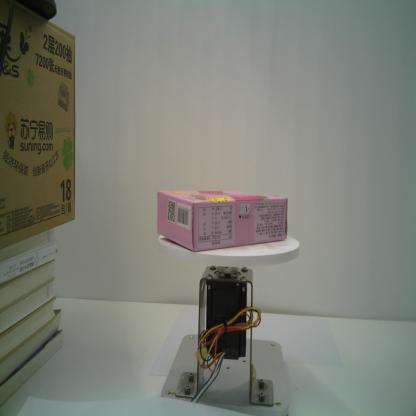Dessert: (157, 190, 287, 252)
